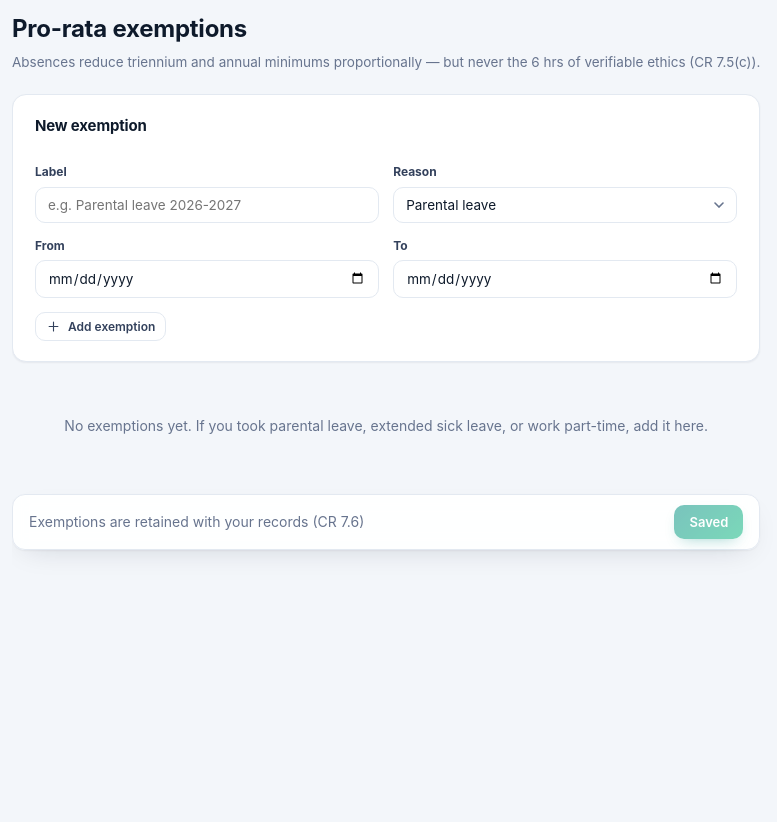
CPD Hours and administration › adds and removes an exemption and persists the edited list
In the field labelled "Label": (207,204) x1=35 y1=186 x2=379 y2=222, type "Leave"
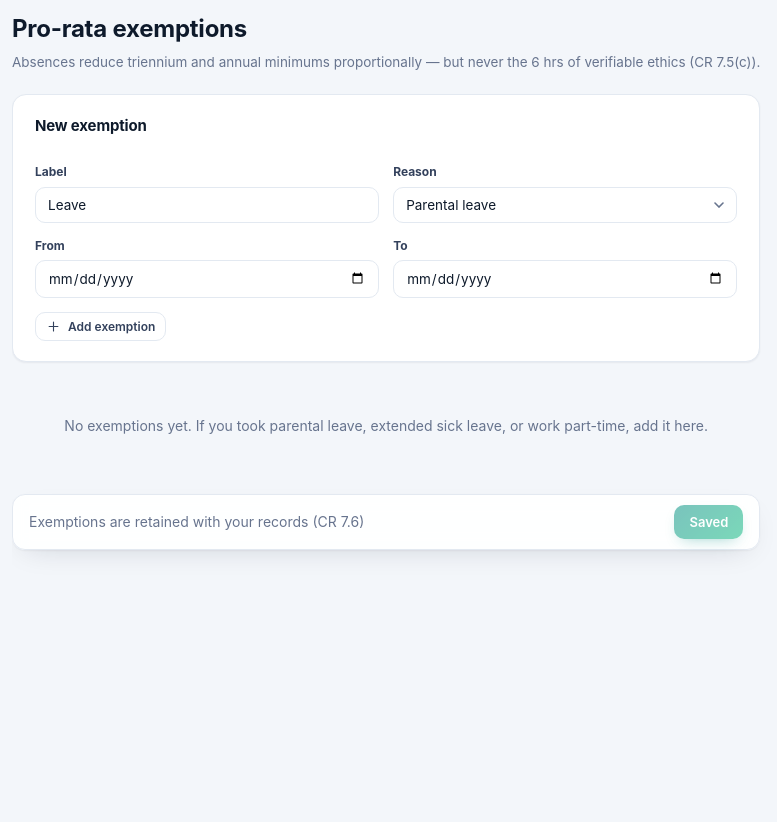
In the date field labelled "From": (207,279) x1=35 y1=260 x2=379 y2=298, type "2026-07-01"
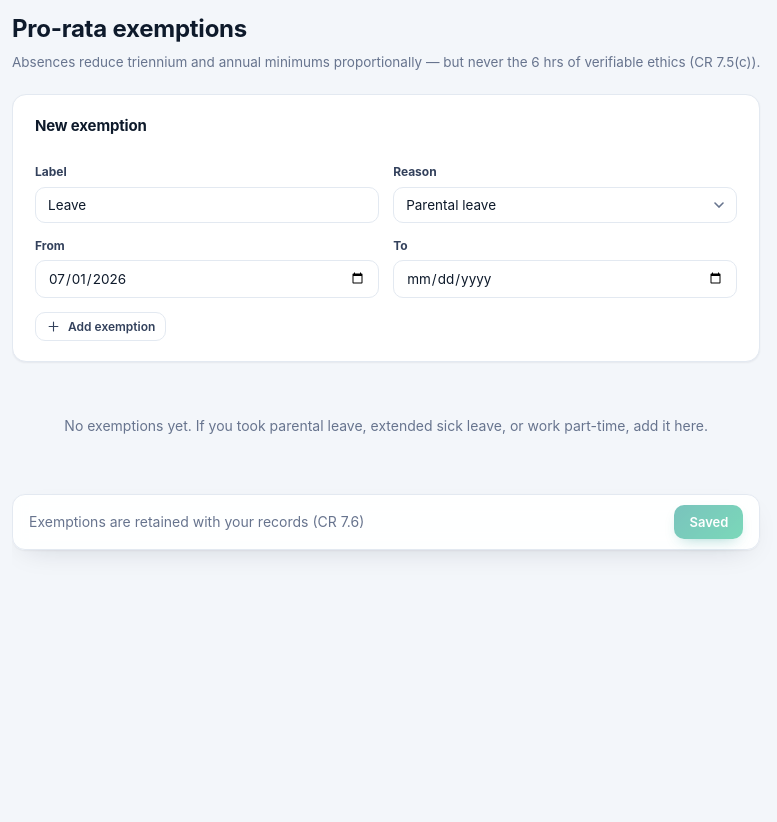
In the date field labelled "To": (565,279) x1=393 y1=260 x2=737 y2=298, type "2026-12-31"
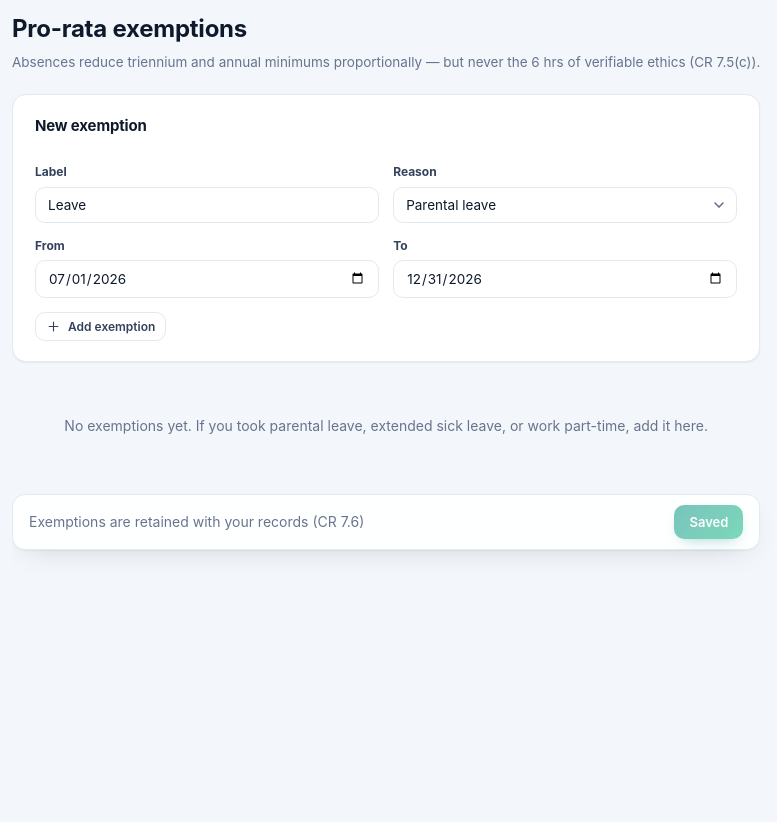
Click the button "Add exemption": (101,326) x1=35 y1=312 x2=166 y2=341
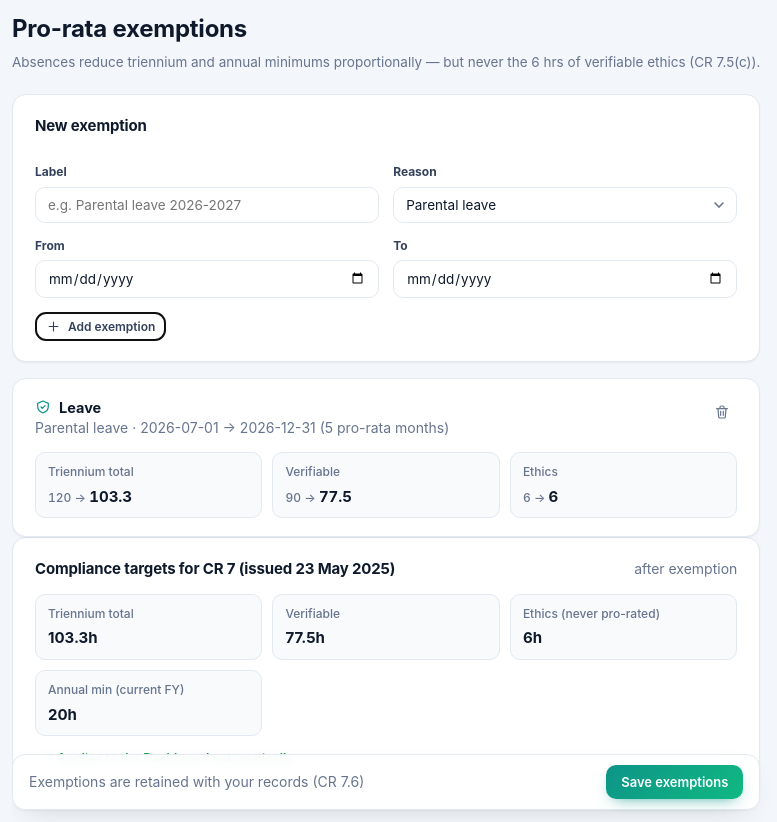
Click the button "Save exemptions": (675,782) x1=606 y1=765 x2=743 y2=799
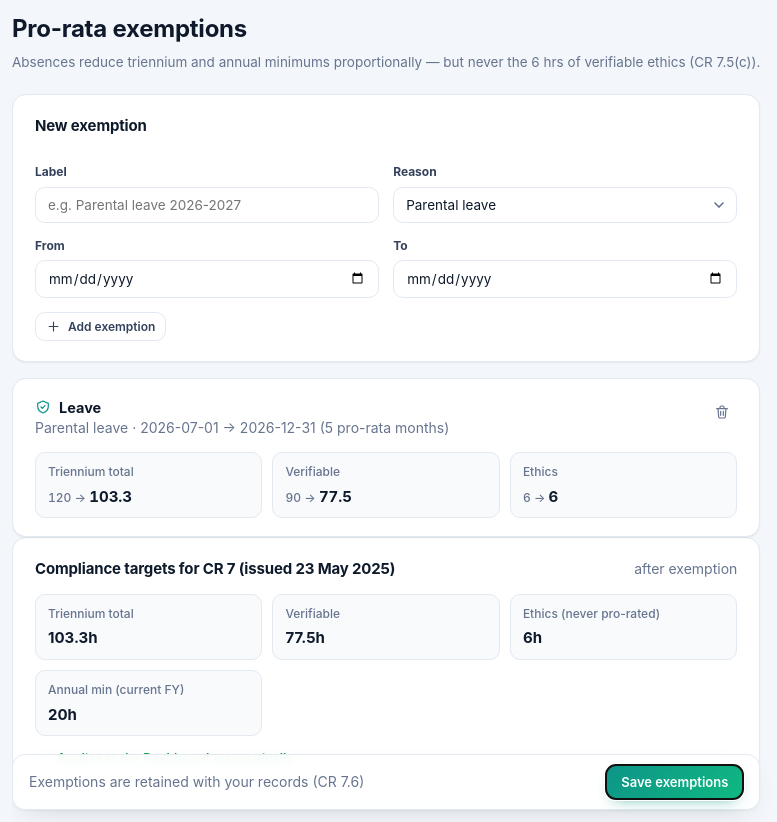
Click the button titled "Remove exemption": (722,412) x1=707 y1=397 x2=737 y2=427
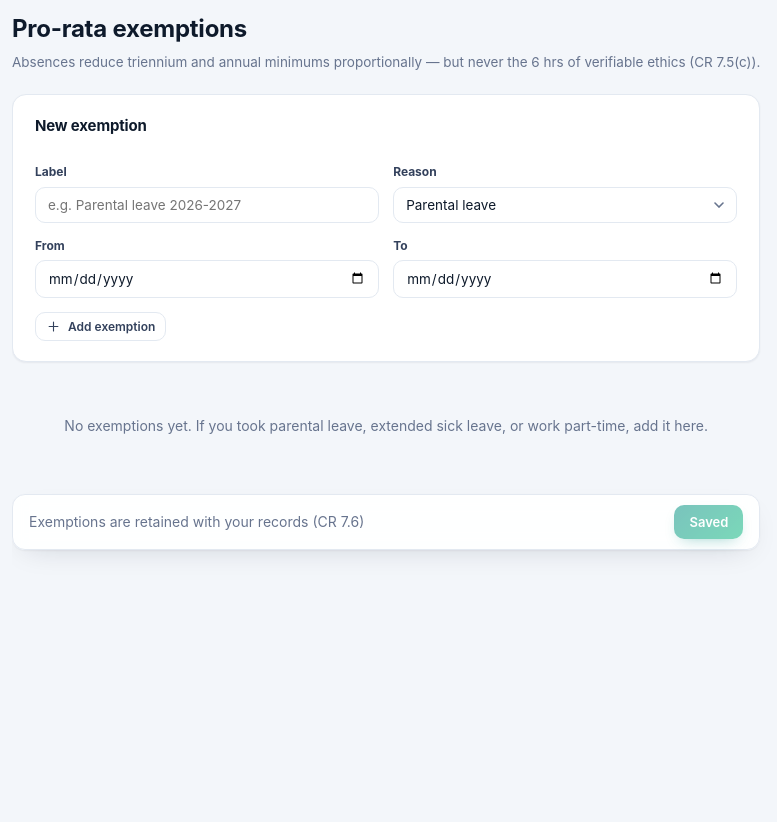
Expected: the text "No exemptions yet" is shown, x1=64 y1=417 x2=708 y2=434
